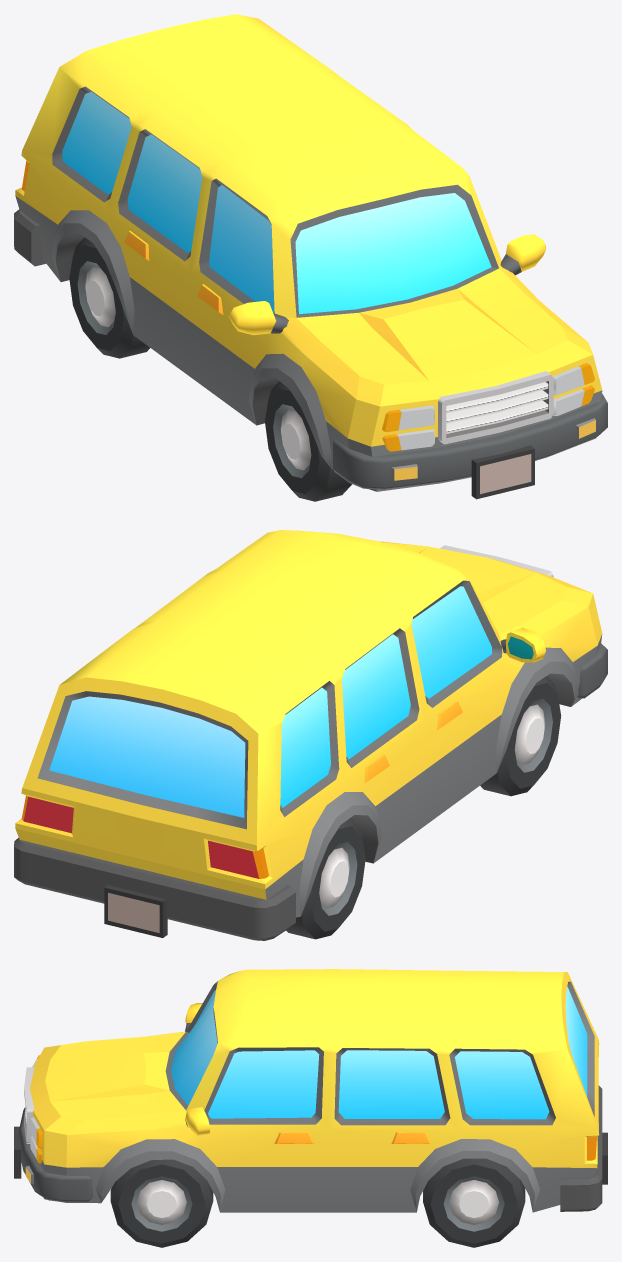
File: city2-car-08.glb
3 views of the same model, one above another, from view 1: azimuth 30°, elevation 25°; view 2: azimuth 150°, elevation 25°; view 3: azimuth 270°, elevation 25° (orthographic). The views are drawn at different scales.
Parts seen in each view (by area): view 1: Car_08, Wheel_037, Wheel_038; view 2: Car_08, Wheel_038, Wheel_037; view 3: Car_08, Wheel_040, Wheel_039.
Boxes of the visible parts, box(x1,y1,x2,y2) form: Car_08: box(14, 14, 607, 499); Wheel_037: box(265, 381, 351, 501); Wheel_038: box(69, 237, 149, 358); Car_08: box(14, 530, 607, 940); Wheel_038: box(286, 818, 365, 939); Wheel_037: box(480, 676, 561, 796); Car_08: box(14, 969, 607, 1212); Wheel_040: box(423, 1158, 525, 1247); Wheel_039: box(110, 1159, 213, 1247).
Bounding box in the file's own units: 2.26 × 1.81 × 4.66.
Materials: 2 (2 with a texture image).
